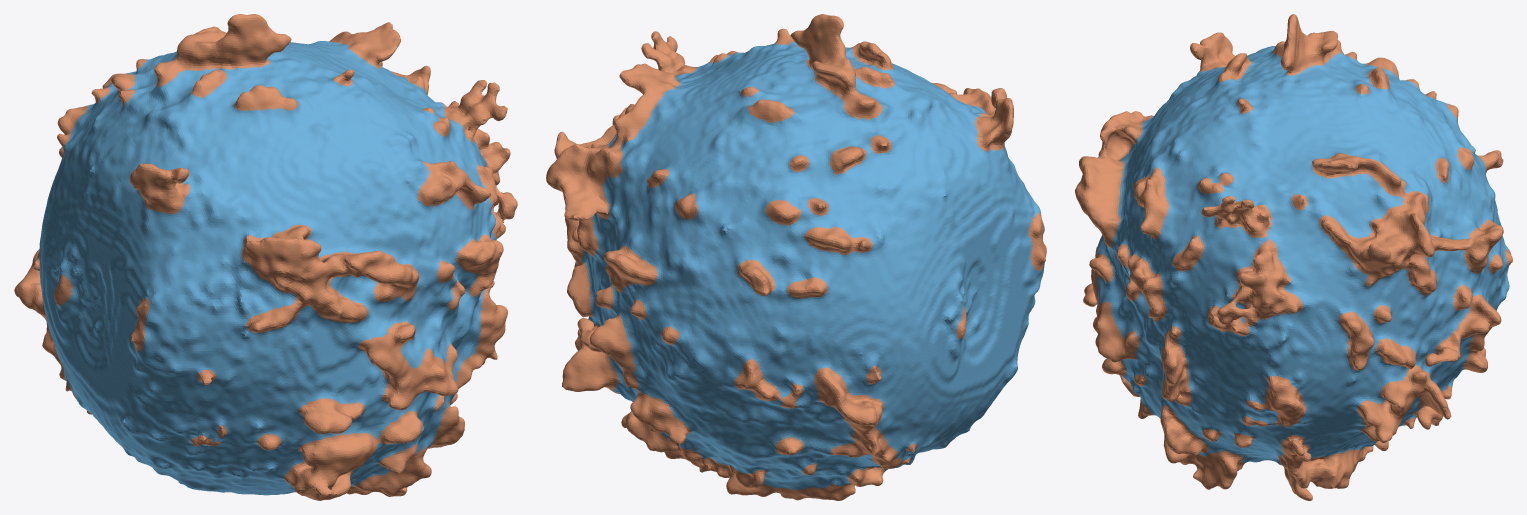
3 renders of one model, left to right at view 1: azimuth 30°, elevation 25°; view 2: azimuth 150°, elevation 25°; view 3: azimuth 270°, elevation 25°, orthographic. The views are drawn at different scales.
Size of the model in its own units: 149 by 166 by 156.
